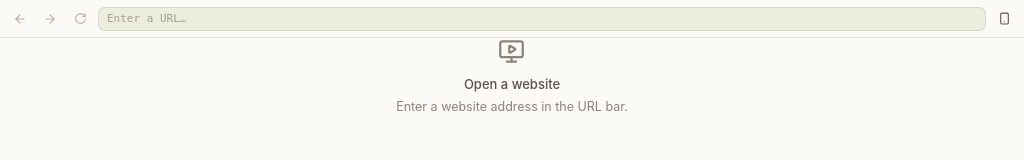
Scenario: PreviewPanel › rejects UNC paths as local paths instead of navigating
Type "\\\\server\\share\\a.html" into the field named "Browser URL".
click(542, 18); type("\\\\server\\share\\a.html")  # box [98,6,986,30]
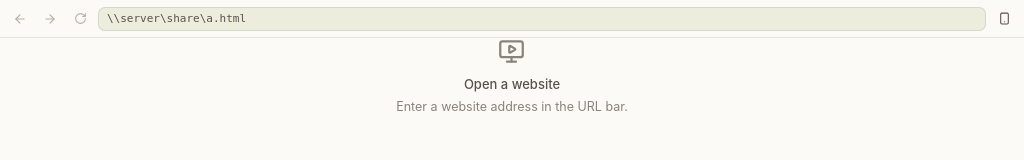
Press Enter in the field named "Browser URL", box [98,6,986,30]
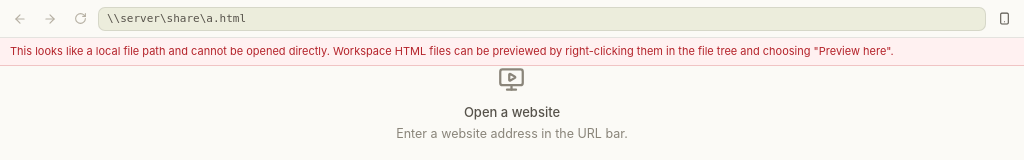
Check: the message shows "This looks like a local file path and cannot be opened directly. Workspace HTML files can be previewed by right-clicking them in the file tree and choosing \"Pre", box [10,44,894,58]
